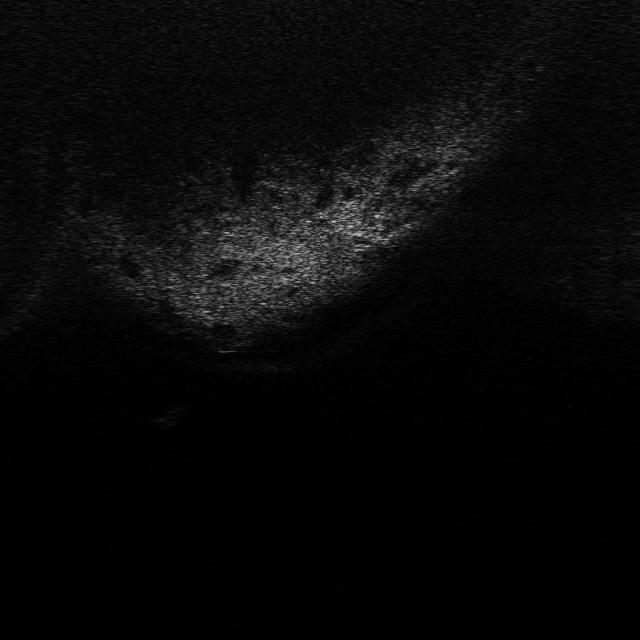cylinder: (148, 402, 184, 431)
